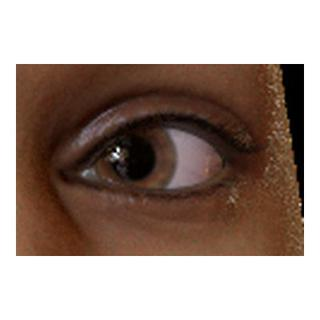pupil: (110, 136, 156, 181)
